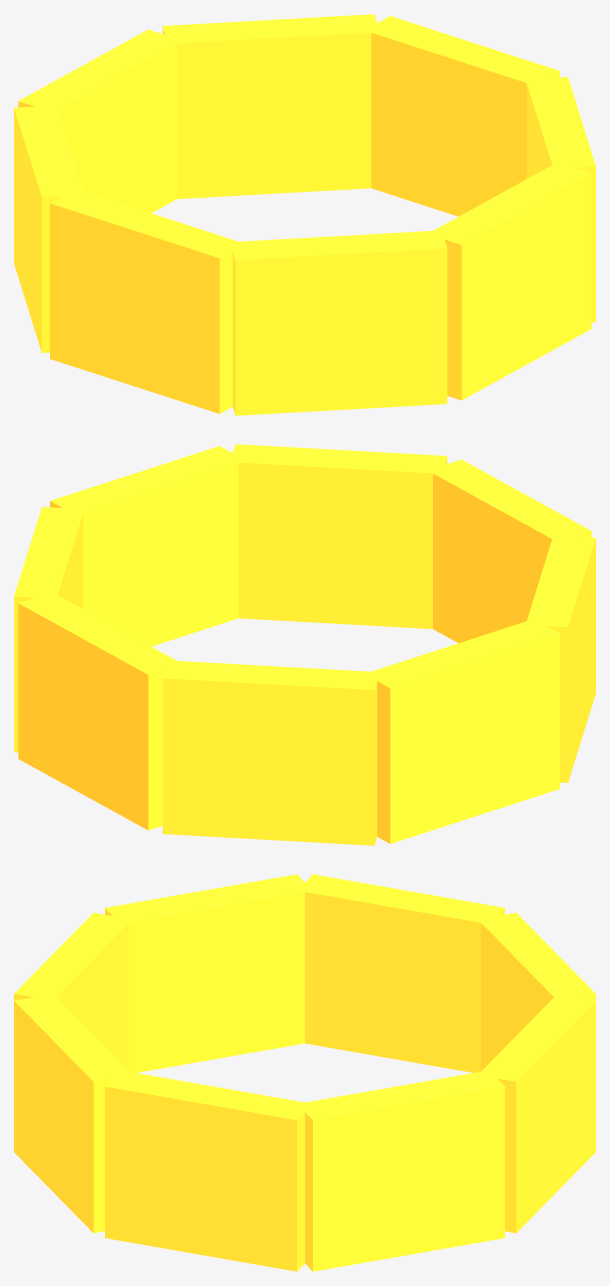
The model's file is Facet_Section_3.glb.
3 views of the same model, one above another, from view 1: azimuth 30°, elevation 25°; view 2: azimuth 150°, elevation 25°; view 3: azimuth 270°, elevation 25° (orthographic). The views are drawn at different scales.
Visible parts, largest first — view 1: Facet; view 2: Facet; view 3: Facet.
Part boxes in pixels (x1,y1,x2,y2): Facet: (14,14,595,415); Facet: (14,444,595,845); Facet: (14,874,595,1271).
Bounding box in the file's own units: 2.23 × 0.64 × 2.23.
